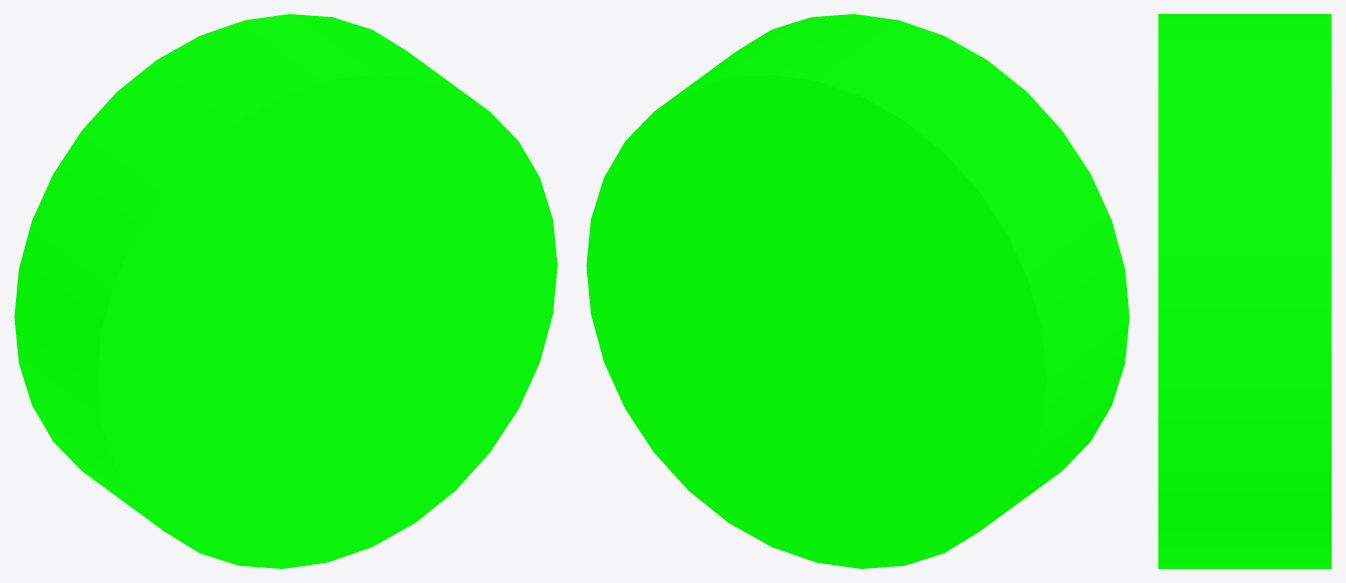
The model's file is MouseWheel_GreenEmissive_0.dae.
The picture shows the model from 3 angles, left to right: view 1: azimuth 30°, elevation 25°; view 2: azimuth 150°, elevation 25°; view 3: azimuth 270°, elevation 25°; orthographic projection. The views are drawn at different scales.
Parts seen in each view (by area): view 1: MouseWheel_GreenEmissive_0; view 2: MouseWheel_GreenEmissive_0; view 3: MouseWheel_GreenEmissive_0.
Part boxes in pixels (bbox=[...]): MouseWheel_GreenEmissive_0: bbox=[14, 14, 557, 568]; MouseWheel_GreenEmissive_0: bbox=[586, 14, 1129, 568]; MouseWheel_GreenEmissive_0: bbox=[1158, 14, 1331, 568].
Bounding box in the file's own units: 0.0106 × 0.0106 × 0.0033.
